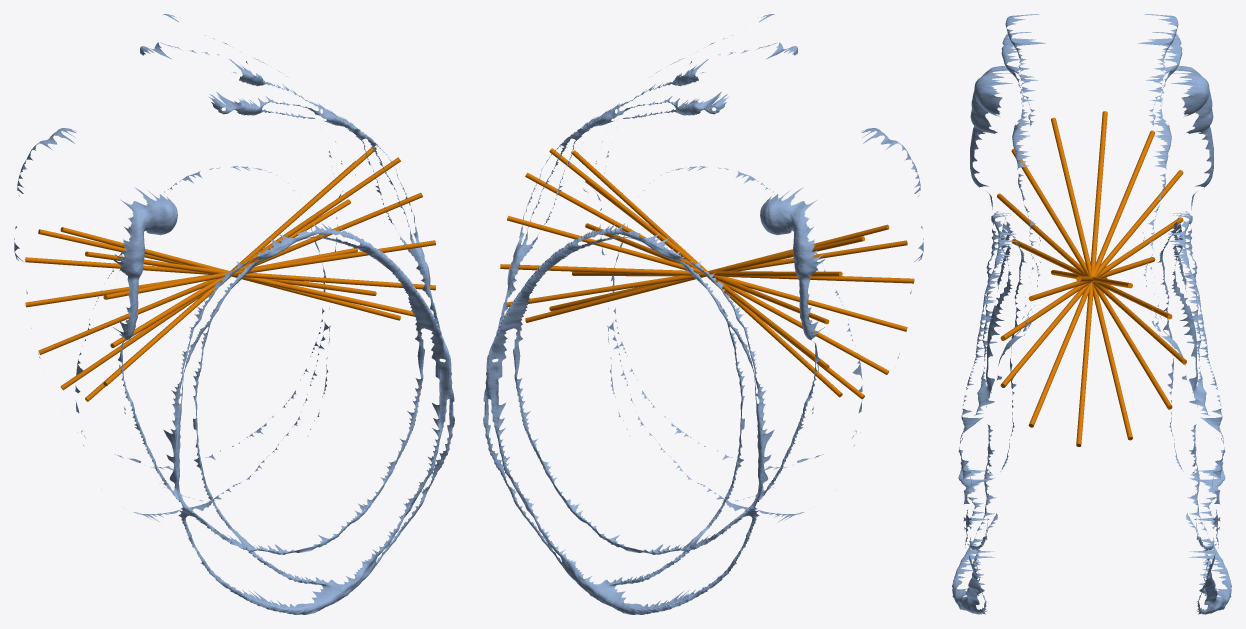
File: Q25018012_6150-37-528-8141_DigitalTwin.glb
3 views of the same model, side by side, from view 1: azimuth 30°, elevation 25°; view 2: azimuth 150°, elevation 25°; view 3: azimuth 270°, elevation 25° (orthographic). The views are drawn at different scales.
Visible parts, largest first — view 1: world; view 2: world; view 3: world.
Part boxes in pixels (x1,y1,x2,y2): world: [14, 14, 454, 614]; world: [483, 14, 923, 614]; world: [952, 14, 1231, 614].
Size of the model in its own units: 306 by 478 by 216.
